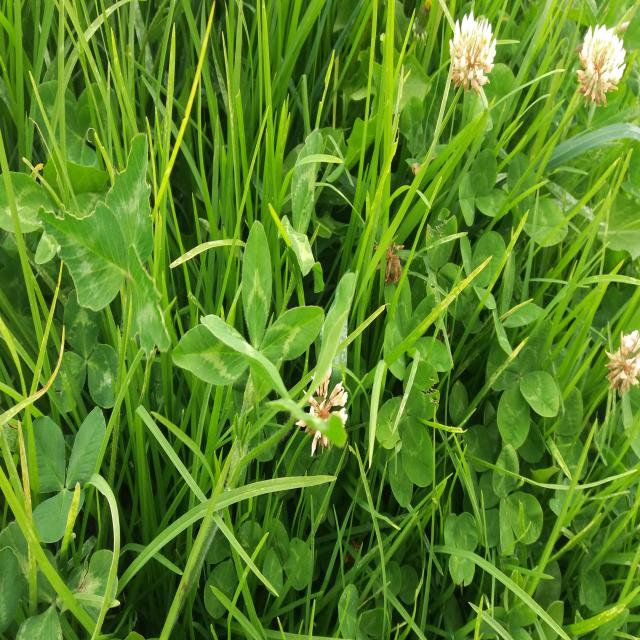Four Leaf Clover: (488, 318, 558, 447), (383, 267, 451, 379)
